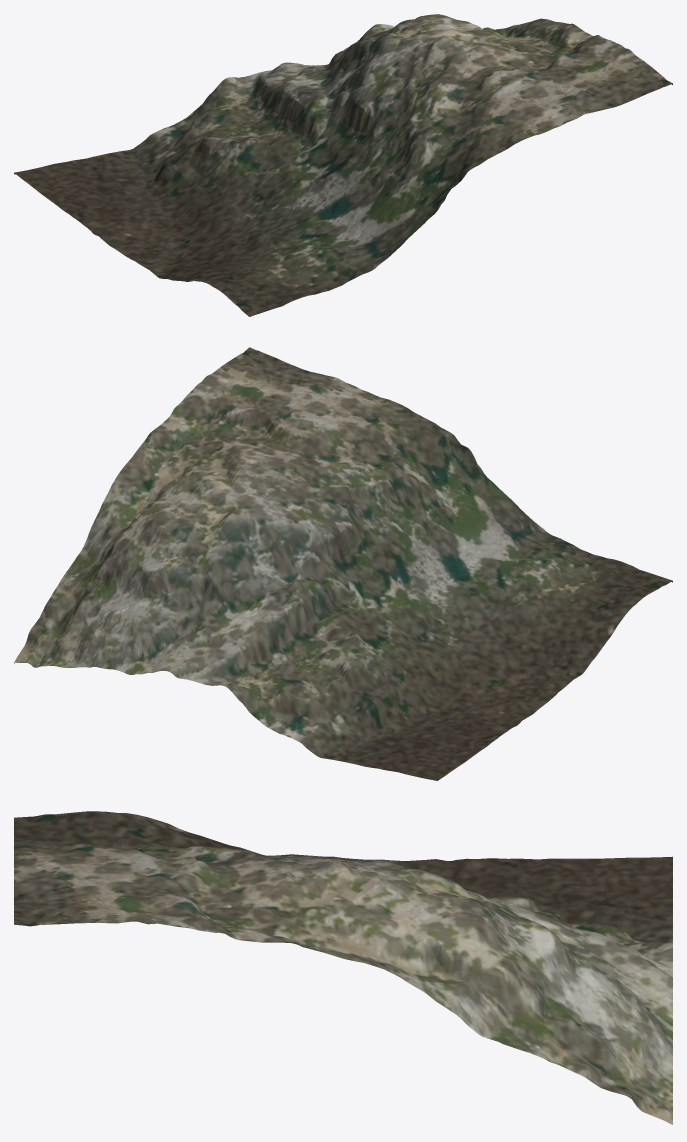
The picture shows the model from 3 angles, top to bottom: view 1: azimuth 30°, elevation 25°; view 2: azimuth 150°, elevation 25°; view 3: azimuth 270°, elevation 25°; orthographic projection. The views are drawn at different scales.
Size of the model in its own units: 250 by 94.51 by 241.
Materials: 1 (1 with a texture image).
